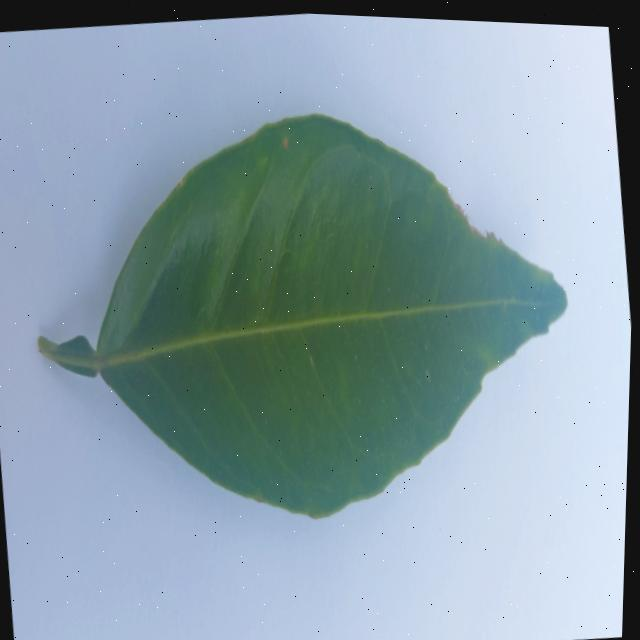greening: (38, 116, 565, 516)
